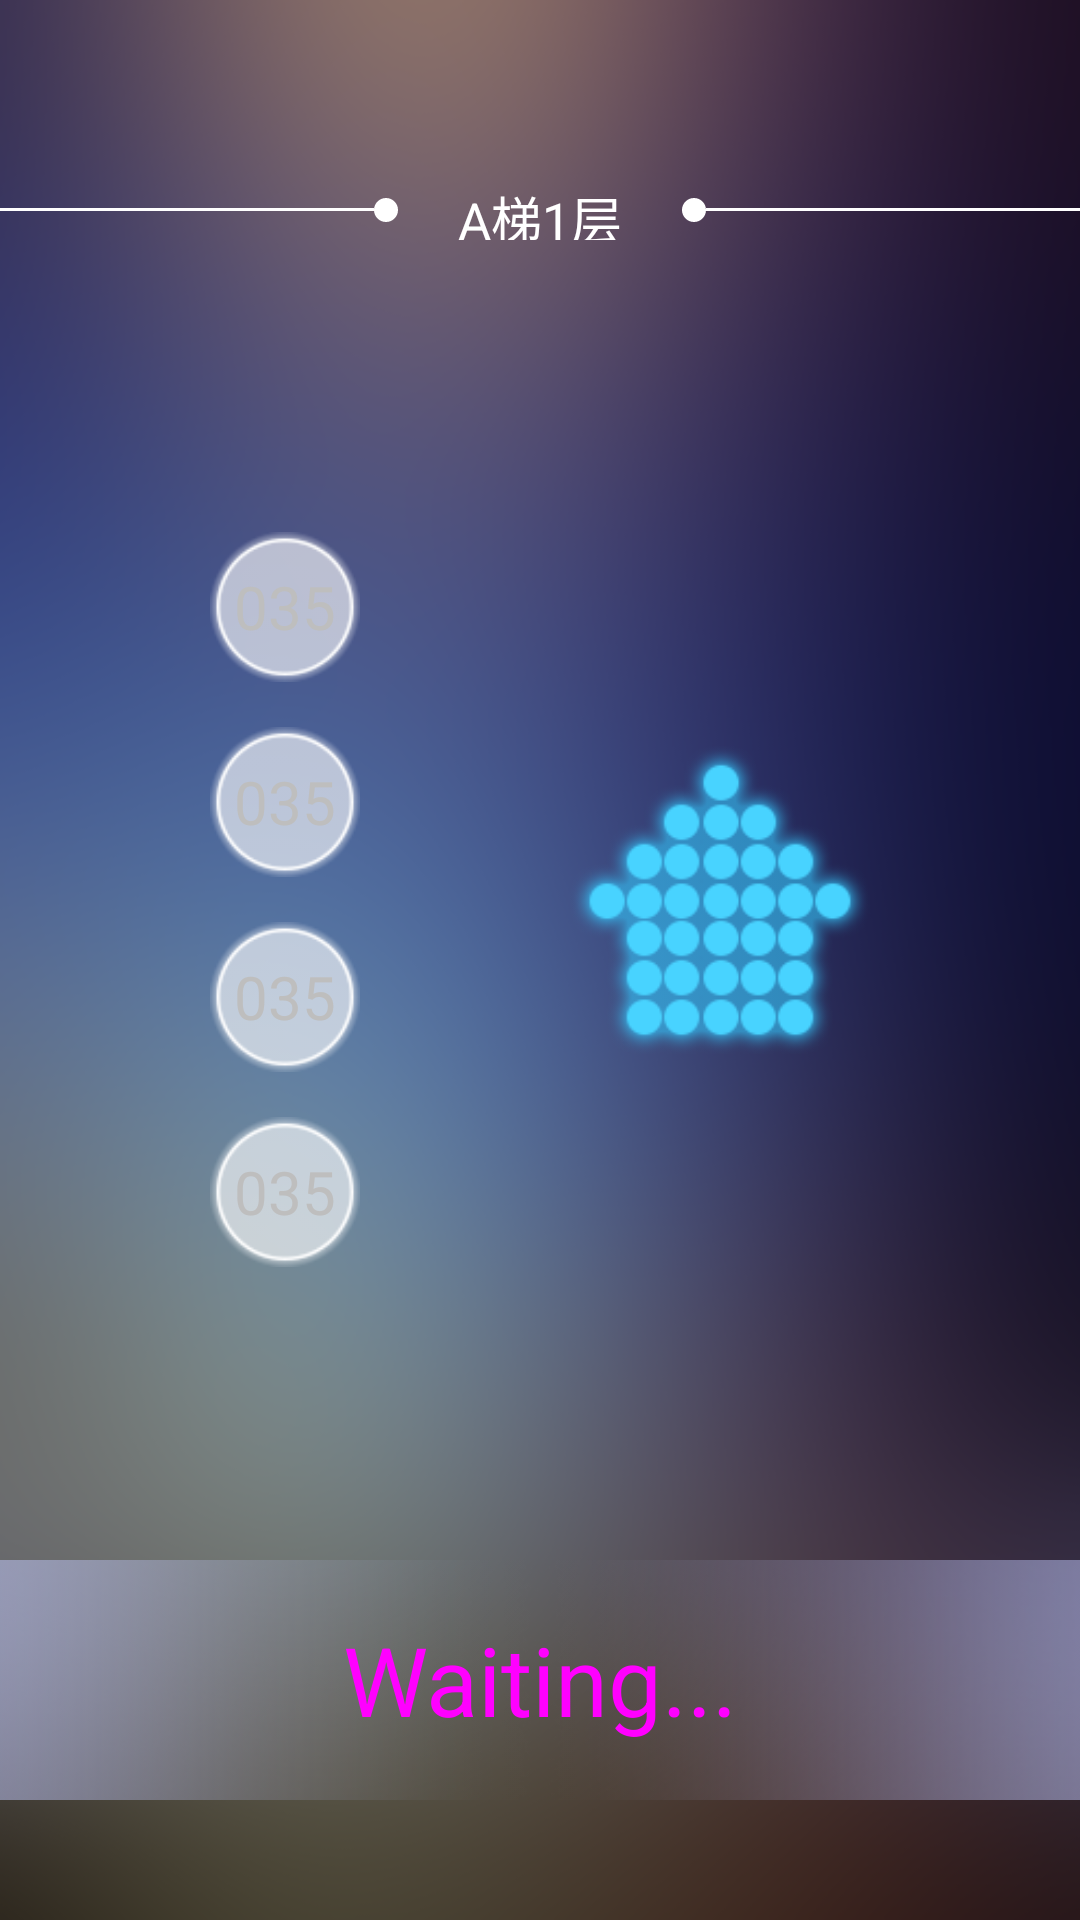

Icons on this 1080px×1920px Android screen, each with its box as (x1, y1, x2, y2):
circle dot: (374, 198, 398, 222), (682, 198, 706, 222)
